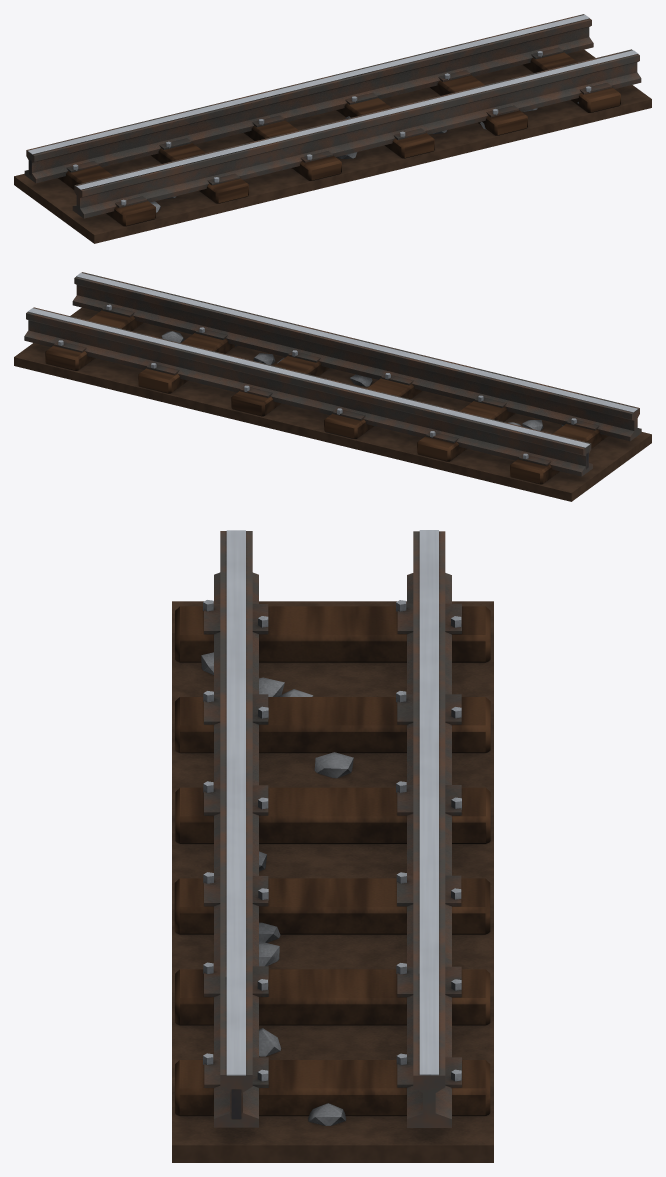
The model's file is rail_mina.fbx.
The picture shows the model from 3 angles, top to bottom: view 1: azimuth 30°, elevation 25°; view 2: azimuth 150°, elevation 25°; view 3: azimuth 270°, elevation 25°; orthographic projection. The views are drawn at different scales.
Visible parts, largest first — view 1: rail_mina; view 2: rail_mina; view 3: rail_mina.
Boxes of the visible parts, <box> form: rail_mina: <box>14,14,651,243</box>; rail_mina: <box>14,272,651,501</box>; rail_mina: <box>172,530,493,1162</box>.
Size of the model in its own units: 4 by 0.3038 by 1.
1 material, 1 textured.
